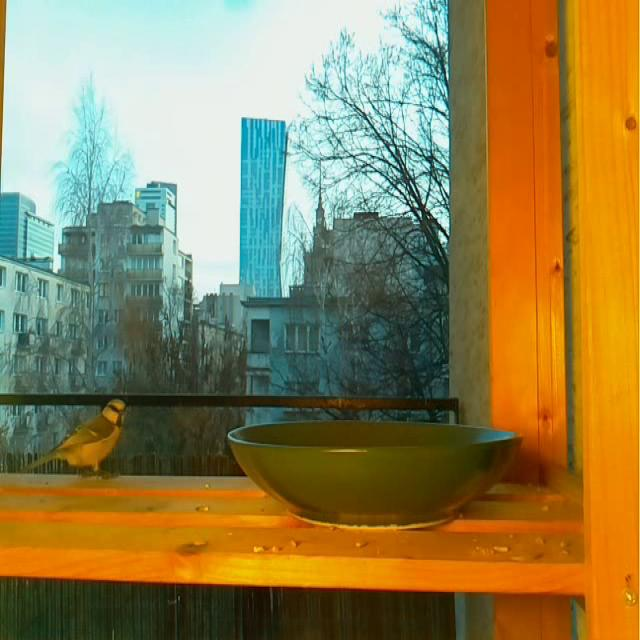Modraszka: (26, 395, 129, 481)
